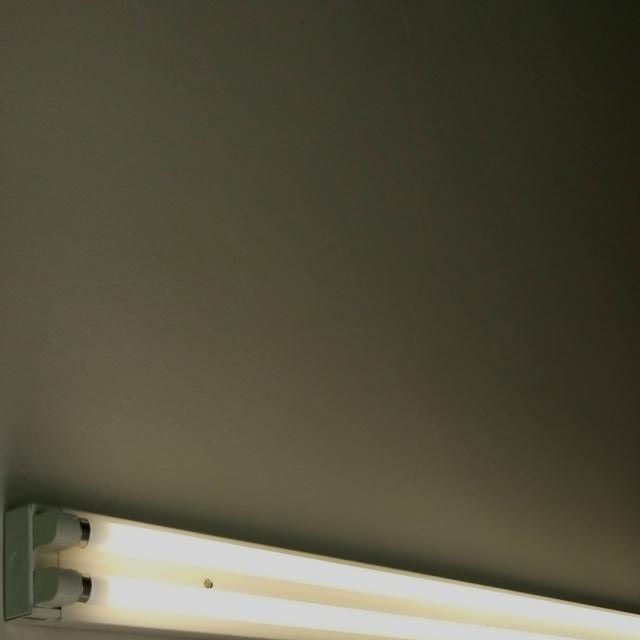fluorescent tube: (0, 480, 640, 640)
